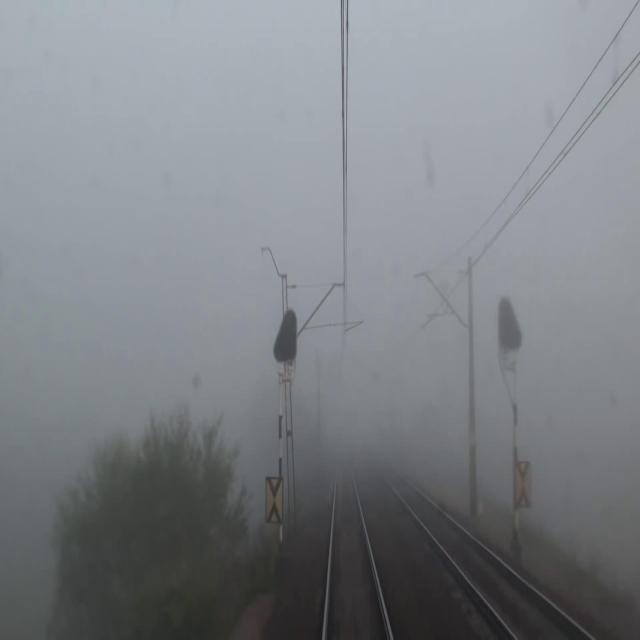rail-track: (381, 465, 585, 639), (327, 463, 384, 639)
